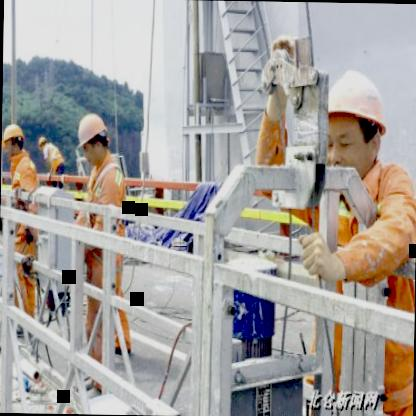helmet: (316, 64, 390, 192), (74, 110, 108, 166), (1, 122, 24, 163), (37, 130, 49, 152)
